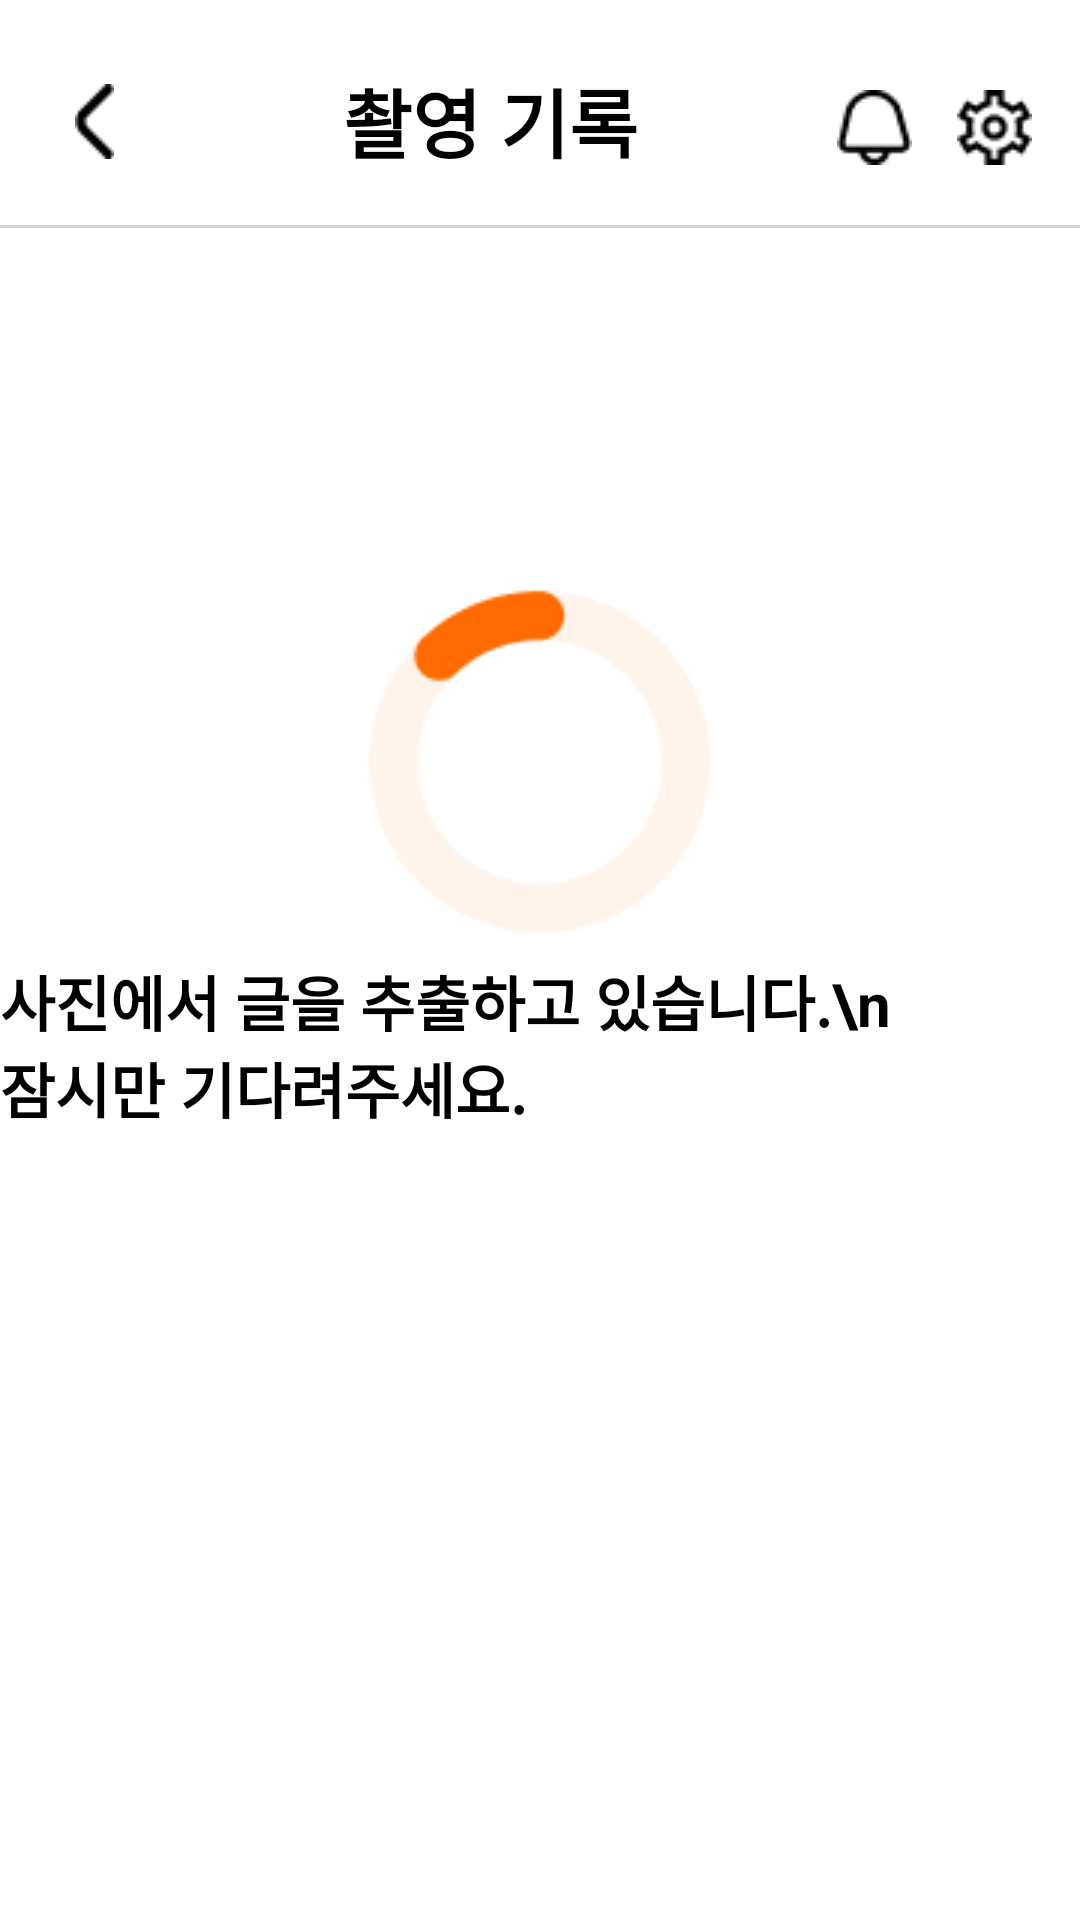

Screen size 1080*1920. Icon name, then its center in pixels as (x=x, y=y):
bell: (x=874, y=127)
left arrow: (x=94, y=121)
setting: (x=994, y=127)
